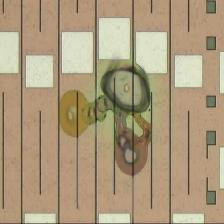PARTICLE: (56, 58, 159, 180)
